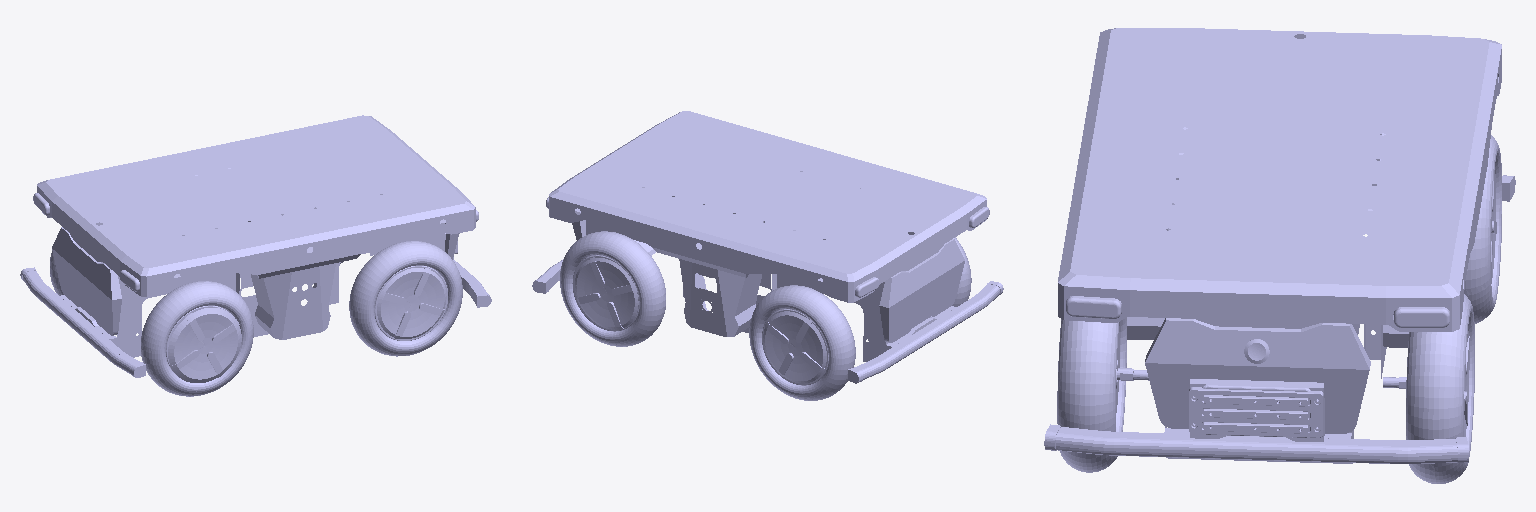
URDF robot description (chassis):
<?xml version="1.0"?>
<!-- This URDF was automatically created by SolidWorks to URDF Exporter! Originally created by Stephen Brawner (brawner@gmail.com) 
     Commit Version: 1.6.0-4-g7f85cfe  Build Version: 1.6.7995.38578
     For more information, please see http://wiki.ros.org/sw_urdf_exporter -->
<robot
  name="chassis">
  <link
    name="base_link">
    <inertial>
      <origin
        xyz="0.0928281919478462 -0.00673923092999855 0.151666421008473"
        rpy="0 0 0" />
      <mass
        value="1.5731528453802" />
      <inertia
        ixx="0.0218145784639336"
        ixy="-0.00154424352543078"
        ixz="8.40761431895854E-08"
        iyy="0.00042670429513181"
        iyz="2.24579560949427E-07"
        izz="0.0218008704749134" />
    </inertial>
    <visual>
      <origin
        xyz="0 0 0"
        rpy="0 0 0" />
      <geometry>
        <mesh
          filename="package://chassis_description/meshes/Frame.STL" />
      </geometry>
      <material
        name="">
        <color
          rgba="0.823529411764706 0.823529411764706 1 1" />
      </material>
    </visual>
    <collision>
      <origin
        xyz="0 0 0"
        rpy="0 0 0" />
      <geometry>
        <mesh
          filename="package://chassis_description/meshes/Frame.STL" />
      </geometry>
    </collision>
  </link>
  <link
    name="wheel_1">
    <inertial>
      <origin
        xyz="2.26501005035074E-06 -0.0334707379419106 -3.72874907977883E-07"
        rpy="0 0 0" />
      <mass
        value="2.55809164145743" />
      <inertia
        ixx="0.0142910768404817"
        ixy="6.68835490530129E-08"
        ixz="9.10300718206809E-09"
        iyy="0.0267766869584139"
        iyz="-8.33810412526065E-09"
        izz="0.0142909867417535" />
    </inertial>
    <visual>
      <origin
        xyz="0 0 0"
        rpy="0 0 0" />
      <geometry>
        <mesh
          filename="package://chassis_description/meshes/wheel_1.STL" />
      </geometry>
      <material
        name="">
        <color
          rgba="0.823529411764706 0.823529411764706 1 1" />
      </material>
    </visual>
    <collision>
      <origin
        xyz="0 0 0"
        rpy="0 0 0" />
      <geometry>
        <mesh
          filename="package://chassis_description/meshes/wheel_1.STL" />
      </geometry>
    </collision>
  </link>
  <joint name="wheel_1_joint" type="continuous">
    <origin xyz="-0.00154970976 -0.0283967243 0.0603998383" rpy="-0.00440320604907234 0.00971868346536325 -0.0750440468661808" />
    <parent link="steering_1" />
    <child link="wheel_1" />
    <axis xyz="0 1 0" />
    <limit effort="100" velocity="15" />
  </joint>
  <link
    name="wheel_2">
    <inertial>
      <origin
        xyz="9.28521727735498E-05 0.0334718985994525 -0.000144245708811025"
        rpy="0 0 0" />
      <mass
        value="2.55809223504083" />
      <inertia
        ixx="0.0142912069151952"
        ixy="4.24912130650615E-05"
        ixz="-1.72055124458042E-07"
        iyy="0.026776306808243"
        iyz="-5.46196789244644E-05"
        izz="0.0142912446422559" />
    </inertial>
    <visual>
      <origin
        xyz="0 0 0"
        rpy="0 0 0" />
      <geometry>
        <mesh
          filename="package://chassis_description/meshes/wheel_2.STL" />
      </geometry>
      <material
        name="">
        <color
          rgba="0.823529411764706 0.823529411764706 1 1" />
      </material>
    </visual>
    <collision>
      <origin
        xyz="0 0 0"
        rpy="0 0 0" />
      <geometry>
        <mesh
          filename="package://chassis_description/meshes/wheel_2.STL" />
      </geometry>
    </collision>
  </link>
  <joint name="wheel_2_joint" type="continuous">
    <origin xyz="0.00514556716 0.0279502959 0.0602240903" rpy="0.00440320604907234 0.00971868346536325 -0.0682343762240833" />
    <parent link="steering_2" />
    <child link="wheel_2" />
    <axis xyz="0 1 0" />
    <limit effort="100" velocity="15" />
  </joint>
  <link
    name="wheel_3">
    <inertial>
      <origin
        xyz="2.2649315989387E-06 -0.0334707379464665 -3.72906138745854E-07"
        rpy="0 0 0" />
      <mass
        value="2.55809164171419" />
      <inertia
        ixx="0.0142910768411321"
        ixy="6.6867572156814E-08"
        ixz="9.10203159797975E-09"
        iyy="0.026776686956972"
        iyz="-8.336287049684E-09"
        izz="0.0142909867402285" />
    </inertial>
    <visual>
      <origin
        xyz="0 0 0"
        rpy="0 0 0" />
      <geometry>
        <mesh
          filename="package://chassis_description/meshes/wheel_3.STL" />
      </geometry>
      <material
        name="">
        <color
          rgba="0.823529411764706 0.823529411764706 1 1" />
      </material>
    </visual>
    <collision>
      <origin
        xyz="0 0 0"
        rpy="0 0 0" />
      <geometry>
        <mesh
          filename="package://chassis_description/meshes/wheel_3.STL" />
      </geometry>
    </collision>
  </link>
  <joint name="wheel_3_joint" type="continuous">
    <origin xyz="-0.00135531087 -0.0284093576 0.0604005012" rpy="-0.00440320736914554 0.00974828930347111 -0.0683200977841862" />
    <parent link="steering_3" />
    <child link="wheel_3" />
    <axis xyz="0 1 0" />
    <limit effort="100" velocity="15" />
  </joint>
  <link
    name="wheel_4">
    <inertial>
      <origin
        xyz="1.99595972960598E-06 0.0333630669871767 1.32608472092066E-07"
        rpy="0 0 0" />
      <mass
        value="2.55809229698053" />
      <inertia
        ixx="0.0142910620534096"
        ixy="-2.91645980447187E-08"
        ixz="1.40144867758775E-08"
        iyy="0.0267766929241229"
        iyz="3.46518444283218E-09"
        izz="0.0142910069486517" />
    </inertial>
    <visual>
      <origin
        xyz="0 0 0"
        rpy="0 0 0" />
      <geometry>
        <mesh
          filename="package://chassis_description/meshes/wheel_4.STL" />
      </geometry>
      <material
        name="">
        <color
          rgba="0.823529411764706 0.823529411764706 1 1" />
      </material>
    </visual>
    <collision>
      <origin
        xyz="0 0 0"
        rpy="0 0 0" />
      <geometry>
        <mesh
          filename="package://chassis_description/meshes/wheel_4.STL" />
      </geometry>
    </collision>
  </link>
  <joint name="wheel_4_joint" type="continuous">
    <origin xyz="0.00366614467 0.0408821734 0.0604561298" rpy="0.00440320736914554 0.00974828930347111 -0.074958325306078" />
    <parent link="steering_4" />
    <child link="wheel_4" />
    <axis xyz="0 1 0" />
    <limit effort="100" velocity="15" />
  </joint>
  <link name="steering_1">
    <inertial>
      <origin xyz="-0.00405440867 -0.0617715727 0.0605472782" rpy="0 0 0" />
      <mass
        value="2.55809164145743" />
      <inertia
        ixx="0.0143612666"
        ixy="0.000933496702"
        ixz="-4.11446165e-06"
        iyy="0.0267062552"
        iyz="-5.48306043e-05"
        izz="0.0142912287" />
    </inertial>
    <visual>
      <origin xyz="0 0 0" rpy="-0.010014 -0.077734 -1.6417" />
      <geometry>
        <mesh
          filename="package://chassis_description/meshes/steering_1.STL" />
      </geometry>
      <material
        name="">
        <color
          rgba="0.823529411764706 0.823529411764706 1 1" />
      </material>
    </visual>
    <collision>
      <origin xyz="0 0 0" rpy="-0.010014 -0.077734 -1.6417" />
      <geometry>
        <mesh
          filename="package://chassis_description/meshes/steering_1.STL" />
      </geometry>
    </collision>
  </link>
  <joint name="steering_1_joint" type="revolute">
    <!-- 坐标系已掰直：rpy=0，纯 Z 轴转向（阿克曼插件按此推算几何） -->
    <origin xyz="0.23696 -0.18808 0.072721" rpy="0 0 0" />
    <parent link="base_link" />
    <child link="steering_1" />
    <axis xyz="0 0 1" />
    <limit lower="-0.53" upper="0.53" effort="50" velocity="2" />
  </joint>
  <link name="steering_2">
    <inertial>
      <origin xyz="0.00751535776 0.0613388383 0.0602267908" rpy="0 0 0" />
      <mass
        value="2.55809223504083" />
      <inertia
        ixx="0.0143550053"
        ixy="0.000891222127"
        ixz="9.31465057e-09"
        iyy="0.0267127476"
        iyz="-5.57306199e-08"
        izz="0.0142910054" />
    </inertial>
    <visual>
      <origin xyz="0 0 0" rpy="-0.010014 0.077734 -1.6432" />
      <geometry>
        <mesh
          filename="package://chassis_description/meshes/steering_2.STL" />
      </geometry>
      <material
        name="">
        <color
          rgba="0.823529411764706 0.823529411764706 1 1" />
      </material>
    </visual>
    <collision>
      <origin xyz="0 0 0" rpy="-0.010014 0.077734 -1.6432" />
      <geometry>
        <mesh
          filename="package://chassis_description/meshes/steering_2.STL" />
      </geometry>
    </collision>
  </link>
  <joint name="steering_2_joint" type="revolute">
    <!-- 坐标系已掰直：rpy=0，纯 Z 轴转向（阿克曼插件按此推算几何） -->
    <origin xyz="0.26138 0.15232 0.072721" rpy="0 0 0" />
    <parent link="base_link" />
    <child link="steering_2" />
    <axis xyz="0 0 1" />
    <limit lower="-0.53" upper="0.53" effort="50" velocity="2" />
  </joint>
  <link name="steering_3">
    <inertial>
      <origin xyz="-0.00363483011 -0.0617976889 0.0605472705" rpy="0 0 0" />
      <mass
        value="2.55809164171419" />
      <inertia
        ixx="0.0143492069"
        ixy="0.000849937726"
        ixz="-3.7437488e-06"
        iyy="0.0267183149"
        iyz="-5.48591652e-05"
        izz="0.0142912287" />
    </inertial>
    <visual>
      <origin xyz="0 0 0" rpy="-0.0095184 -0.0778 -1.6417" />
      <geometry>
        <mesh
          filename="package://chassis_description/meshes/steering_3.STL" />
      </geometry>
      <material
        name="">
        <color
          rgba="0.823529411764706 0.823529411764706 1 1" />
      </material>
    </visual>
    <collision>
      <origin xyz="0 0 0" rpy="-0.0095184 -0.0778 -1.6417" />
      <geometry>
        <mesh
          filename="package://chassis_description/meshes/steering_3.STL" />
      </geometry>
    </collision>
  </link>
  <joint name="steering_3_joint" type="fixed">
    <!-- 后转向锁死：Ecu 接口只有前轮转角，后轮转向由底盘控制器内部处理 -->
    <origin xyz="-0.26168 -0.13947 0.072664" rpy="0 0 0" />
    <parent link="base_link" />
    <child link="steering_3" />
  </joint>
  <link name="steering_4">
    <inertial>
      <origin xyz="0.00616509514 0.0741505201 0.0606029371" rpy="0 0 0" />
      <mass
        value="2.55809229698053" />
      <inertia
        ixx="0.014361205"
        ixy="0.000933187528"
        ixz="4.13447365e-06"
        iyy="0.0267063081"
        iyz="5.48257879e-05"
        izz="0.0142912488" />
    </inertial>
    <visual>
      <origin xyz="0 0 0" rpy="-0.0095184 0.0778 -1.6432" />
      <geometry>
        <mesh
          filename="package://chassis_description/meshes/steering_4.STL" />
      </geometry>
      <material
        name="">
        <color
          rgba="0.823529411764706 0.823529411764706 1 1" />
      </material>
    </visual>
    <collision>
      <origin xyz="0 0 0" rpy="-0.0095184 0.0778 -1.6432" />
      <geometry>
        <mesh
          filename="package://chassis_description/meshes/steering_4.STL" />
      </geometry>
    </collision>
  </link>
  <joint name="steering_4_joint" type="fixed">
    <!-- 后转向锁死：Ecu 接口只有前轮转角，后轮转向由底盘控制器内部处理 -->
    <origin xyz="-0.23909 0.17541 0.072664" rpy="0 0 0" />
    <parent link="base_link" />
    <child link="steering_4" />
  </joint>
</robot>

--- Facts derived from the render (not from the file) ---
3 views of the same robot in one strip: view 1: azimuth 30°, elevation 25°; view 2: azimuth 150°, elevation 25°; view 3: azimuth 270°, elevation 25° (orthographic).
Model chassis with 9 links and 8 joints (2 revolute, 4 continuous, 2 fixed), rooted at base_link, posed all joints at 0.
Visible links, largest first — view 1: base_link, wheel_3, wheel_1, steering_1; view 2: base_link, steering_2, steering_4, wheel_4, wheel_2; view 3: base_link, wheel_2, steering_1, wheel_4, wheel_1.
Link boxes in pixels (bbox=[...]): base_link: bbox=[20, 115, 491, 382]; wheel_3: bbox=[141, 282, 253, 396]; wheel_1: bbox=[350, 245, 434, 356]; steering_1: bbox=[349, 241, 462, 343]; base_link: bbox=[532, 111, 1003, 383]; steering_2: bbox=[563, 232, 665, 346]; steering_4: bbox=[759, 286, 855, 400]; wheel_4: bbox=[749, 285, 828, 398]; wheel_2: bbox=[560, 231, 643, 345]; base_link: bbox=[1044, 28, 1515, 463]; wheel_2: bbox=[1383, 306, 1474, 483]; steering_1: bbox=[1057, 313, 1148, 472]; wheel_4: bbox=[1464, 139, 1499, 323]; wheel_1: bbox=[1066, 300, 1118, 472].
Bounding box of the posed robot: 0.9187 × 0.6291 × 0.3438 m (x, y, z).
Meshes: 9 distinct files referenced, 9 mesh visuals loaded (9 binary STL).
